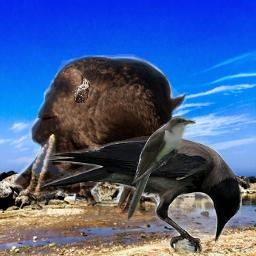Crow: (11, 54, 191, 215), (41, 136, 242, 253)
Cuckoo: (124, 115, 196, 222)
Woodpecker: (71, 74, 90, 103)
